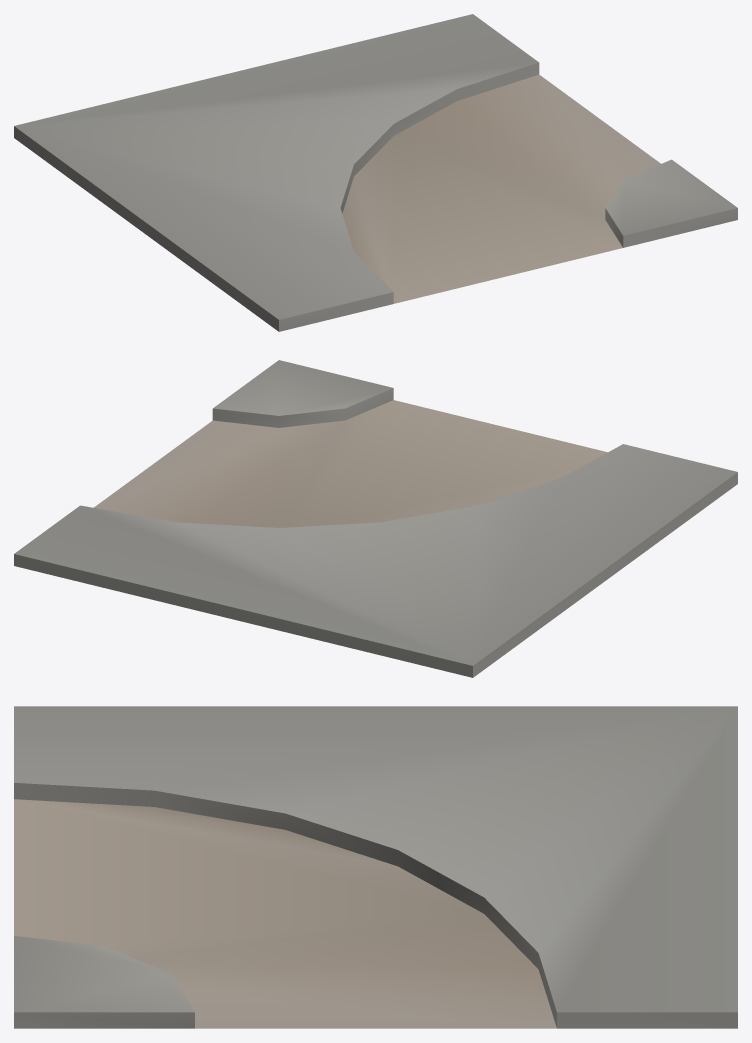
Rendered from road-dirt-corner.glb.
3 views of the same model, one above another, from view 1: azimuth 30°, elevation 25°; view 2: azimuth 150°, elevation 25°; view 3: azimuth 270°, elevation 25° (orthographic). The views are drawn at different scales.
Visible parts, largest first — view 1: road-dirt-corner; view 2: road-dirt-corner; view 3: road-dirt-corner.
Boxes of the visible parts, x1=… form: road-dirt-corner: x1=14, y1=14, x2=737, y2=331; road-dirt-corner: x1=14, y1=360, x2=737, y2=677; road-dirt-corner: x1=14, y1=706, x2=737, y2=1028.
Size of the model in its own units: 2 by 0.05 by 2.
